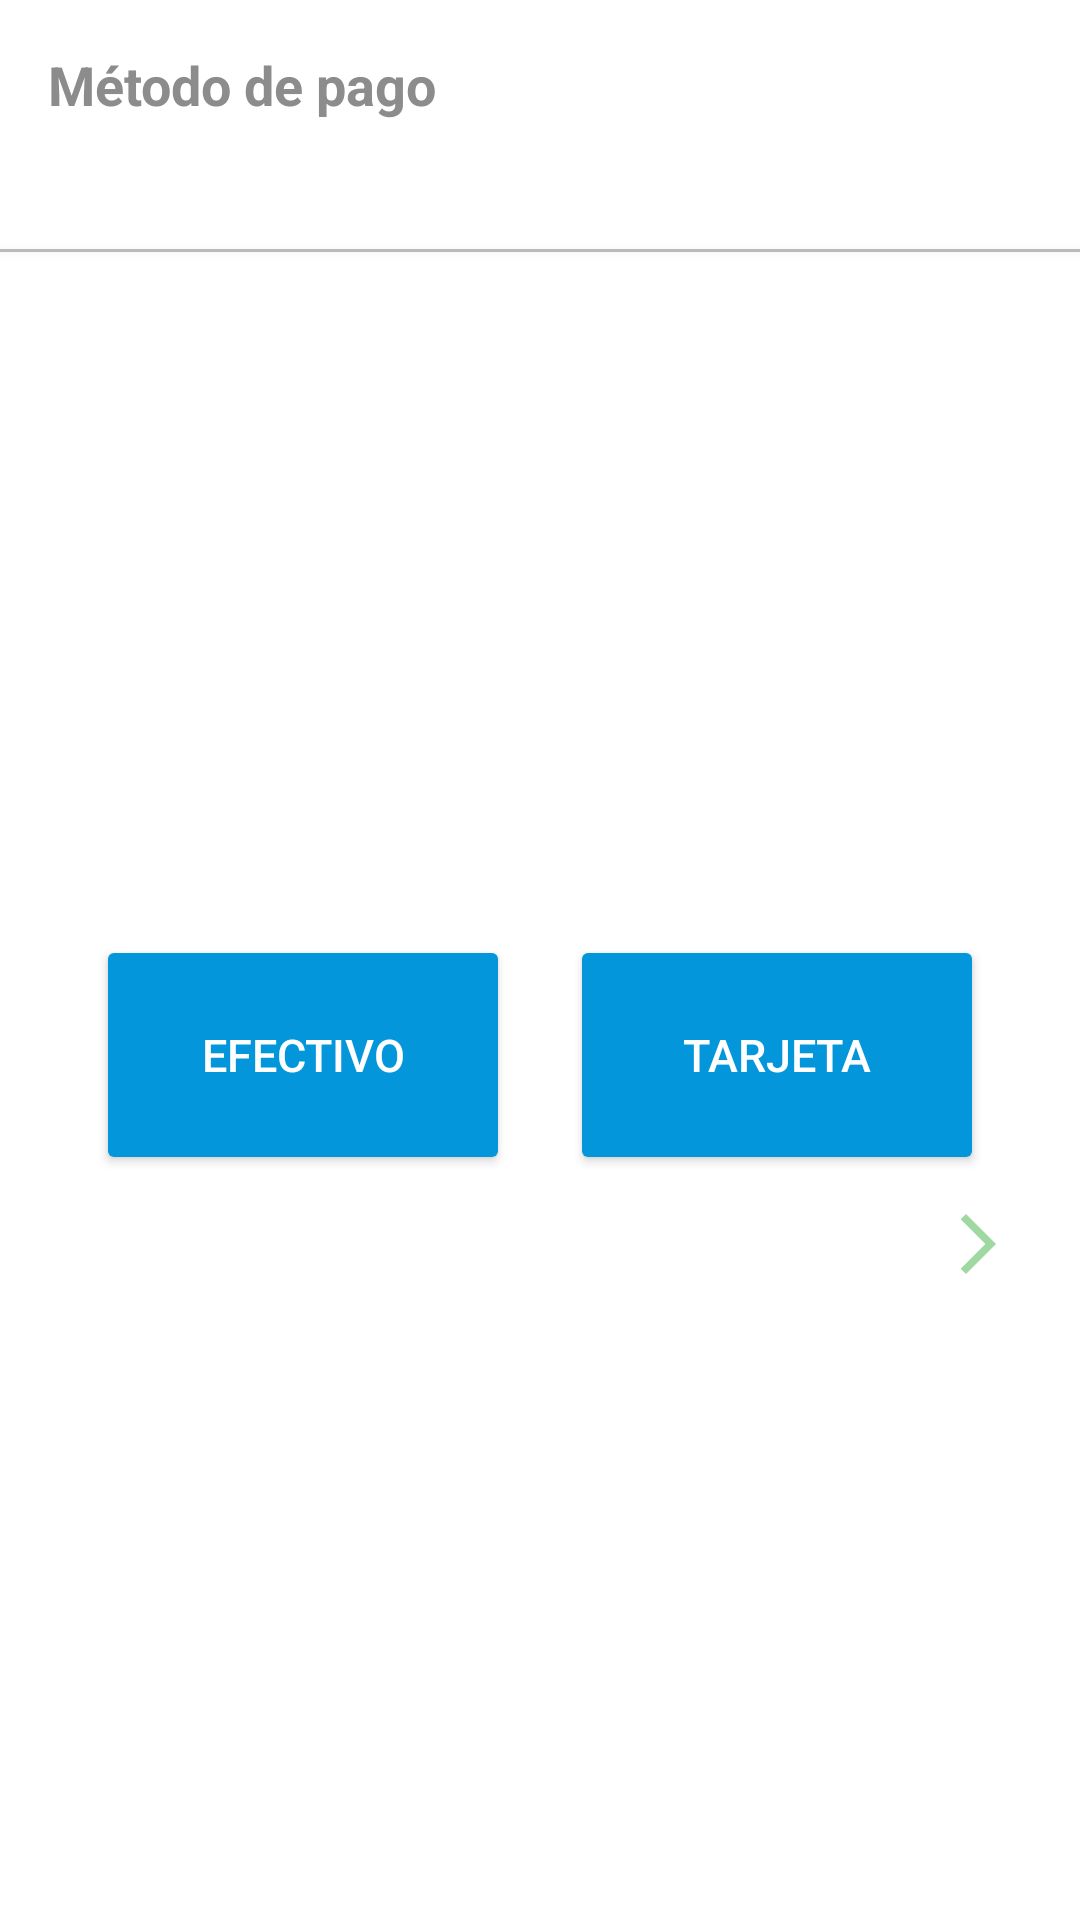

Where icons sit on this 1080*1920 app screen, as {"x1": x1, "y1": y1, "x2": x2, "y2": y2}:
arrow: {"x1": 961, "y1": 1214, "x2": 996, "y2": 1274}
